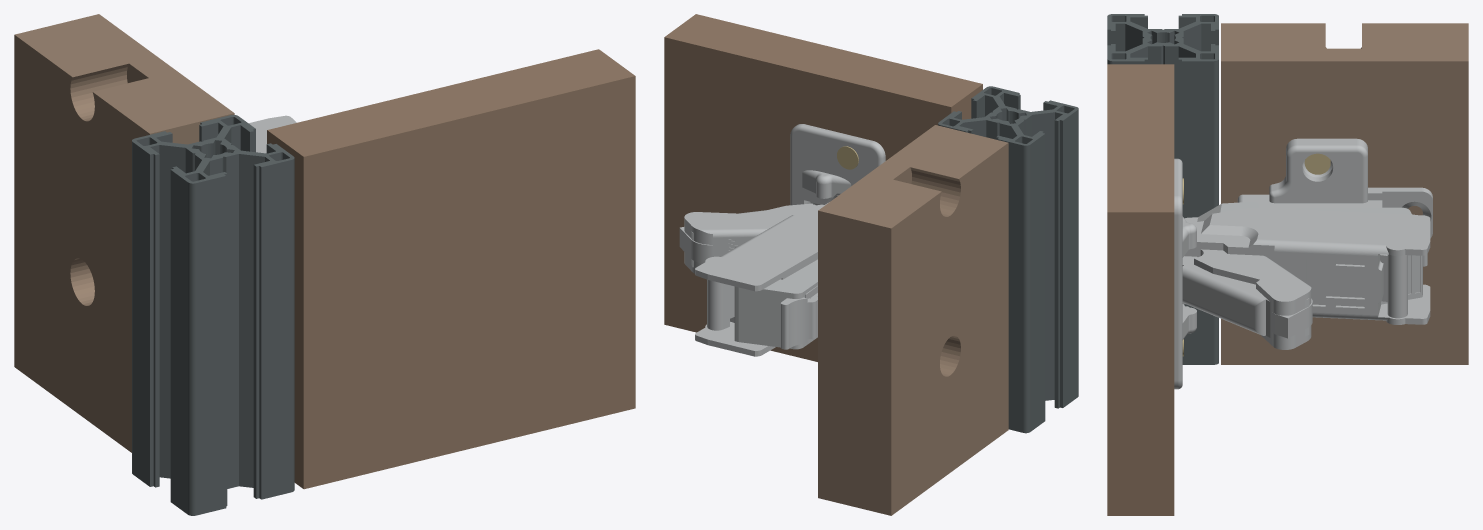
The model's file is hinge-0.glb.
The picture shows the model from 3 angles, left to right: view 1: azimuth 30°, elevation 25°; view 2: azimuth 150°, elevation 25°; view 3: azimuth 270°, elevation 25°; orthographic projection. The views are drawn at different scales.
Visible parts, largest first — view 1: Left-door-face-18, Post-4-23, Left-pegboard-18, Blum-1-71T6650-body-2; view 2: Left-pegboard-18, Left-door-face-18, Post-4-23, Blum-1-71T6650-body-2, Blum-1-71T6650-body-5, Blum-1-71T6650-body-3, Blum-1-71T6650-body-0, Blum-1-71T6650-body-6, Blum-1-71T6650-body-1; view 3: Left-pegboard-18, Left-door-face-18, Blum-1-71T6650-body-2, Post-4-23, Blum-1-175H7190, Blum-1-71T6650-body-3, Blum-1-71T6650-body-4, Blum-1-71T6650-body-5, Blum-1-71T6650-body-0, Blum-1-71T6650-body-1, Blum-1-609.1500-plate-2.
Boxes of the visible parts, x1,y1,x2,y2 form: Left-door-face-18: (267,49,635,489); Post-4-23: (132,115,294,515); Left-pegboard-18: (14,14,234,452); Blum-1-71T6650-body-2: (249,115,296,153); Left-pegboard-18: (818,125,1008,515); Left-door-face-18: (664,14,982,361); Post-4-23: (938,86,1078,433); Blum-1-71T6650-body-2: (695,202,829,356); Blum-1-71T6650-body-5: (790,124,885,205); Blum-1-71T6650-body-3: (679,203,816,273); Blum-1-71T6650-body-0: (734,259,817,349); Blum-1-71T6650-body-6: (780,285,817,349); Blum-1-71T6650-body-1: (707,279,734,330); Left-pegboard-18: (1221,23,1468,364); Left-door-face-18: (1107,64,1174,515); Blum-1-71T6650-body-2: (1182,208,1430,324); Post-4-23: (1107,14,1218,364); Blum-1-175H7190: (1237,138,1432,238); Blum-1-71T6650-body-3: (1194,249,1312,349); Blum-1-71T6650-body-4: (1182,256,1309,337); Blum-1-71T6650-body-5: (1174,158,1196,389); Blum-1-71T6650-body-0: (1184,201,1422,304); Blum-1-71T6650-body-1: (1380,254,1407,318); Blum-1-609.1500-plate-2: (1304,153,1330,174).
Size of the model in its own units: 0.126 by 0.09 by 0.097.
